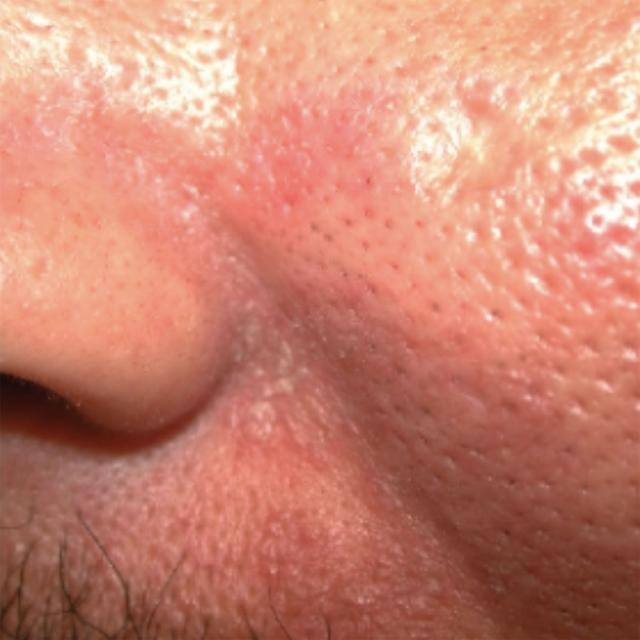oily: (4, 6, 640, 568)
pores: (24, 21, 526, 425)
